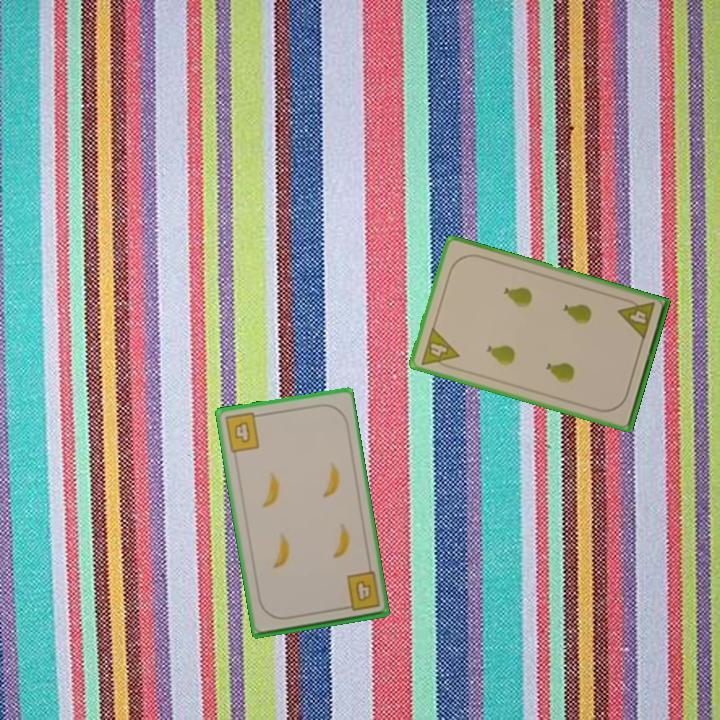4b: (338, 568, 383, 614), (221, 409, 265, 455)
4p: (417, 324, 462, 373), (615, 294, 658, 343)
